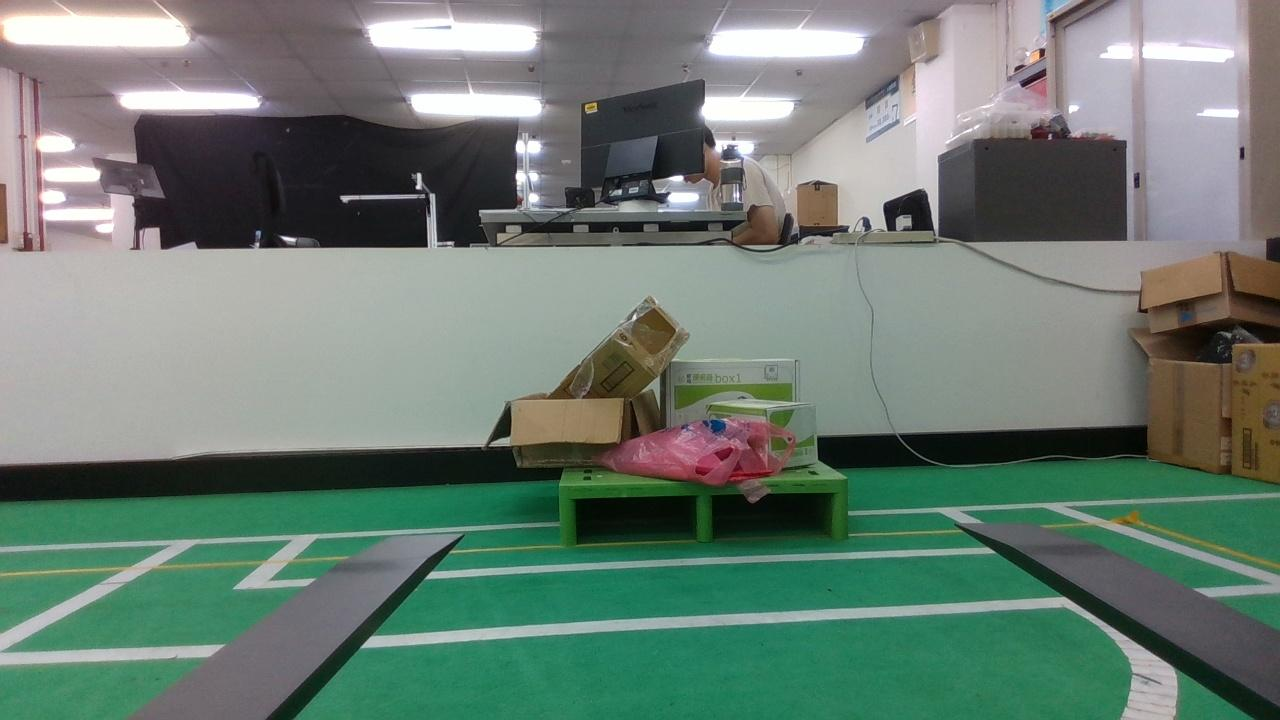Pallet: (558, 478, 849, 544)
